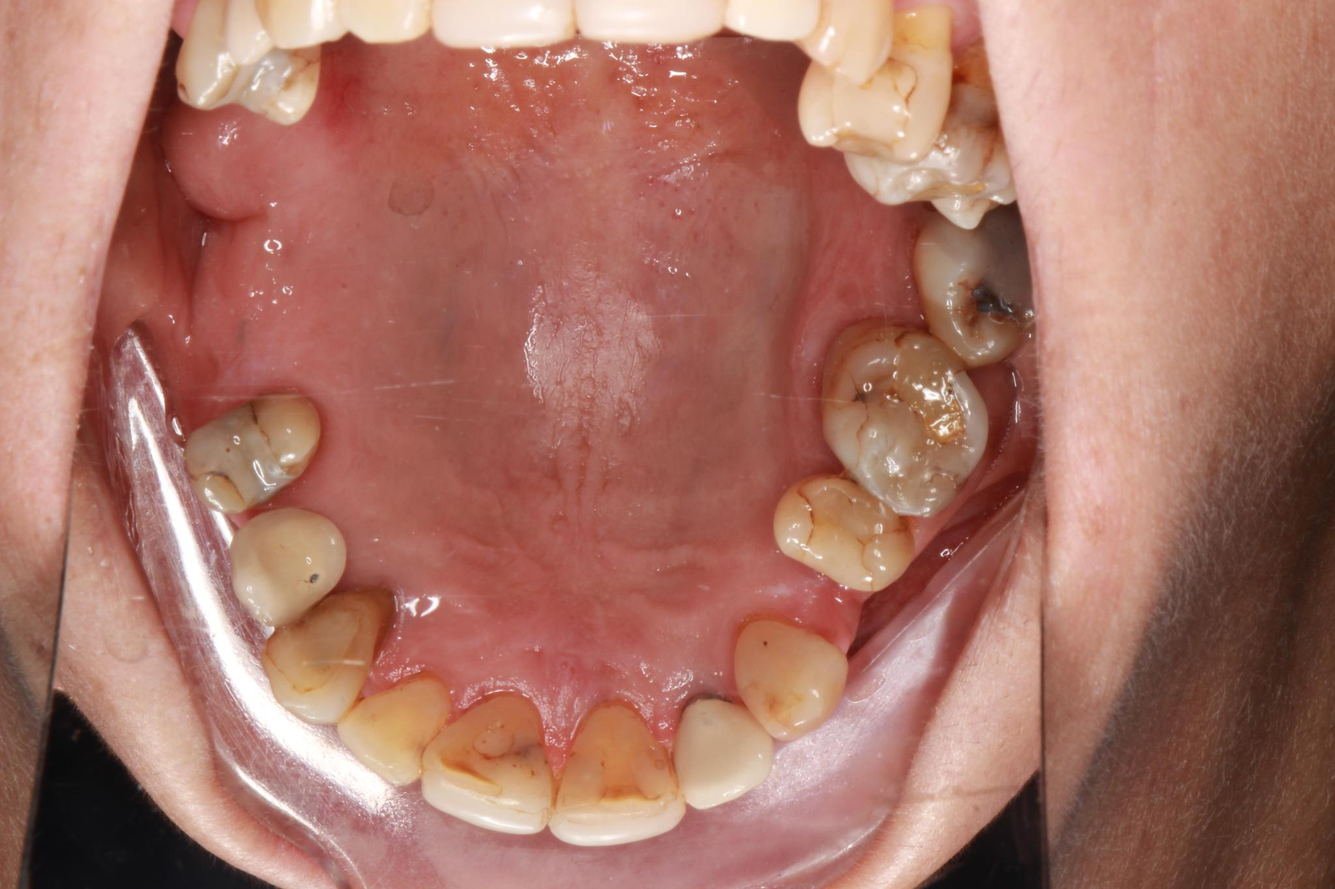Spaced: (762, 550, 860, 652)
